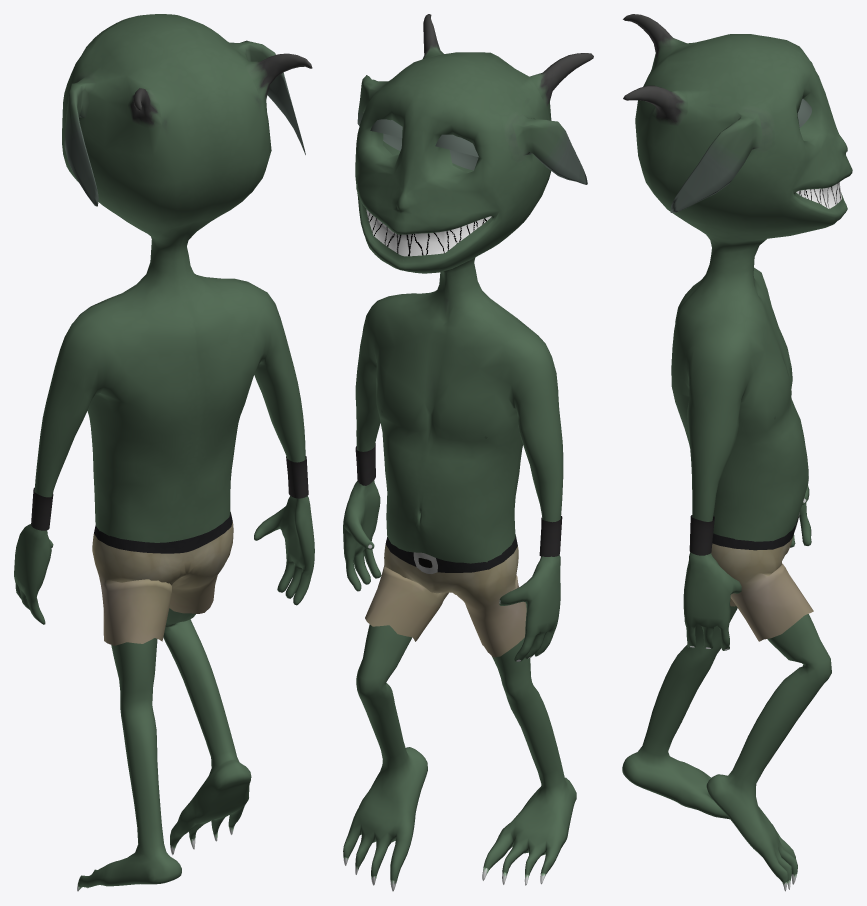
The model's file is lwjglcharactergoblin11_000022.obj.
3 views of the same model, side by side, from view 1: azimuth 30°, elevation 25°; view 2: azimuth 150°, elevation 25°; view 3: azimuth 270°, elevation 25° (orthographic). The views are drawn at different scales.
Visible parts, largest first — view 1: Cube.002; view 2: Cube.002; view 3: Cube.002.
Boxes of the visible parts, <box> form: Cube.002: <box>14,14,314,891</box>; Cube.002: <box>343,14,593,891</box>; Cube.002: <box>622,14,852,891</box>.
Size of the model in its own units: 1.21 by 3.96 by 1.01.
